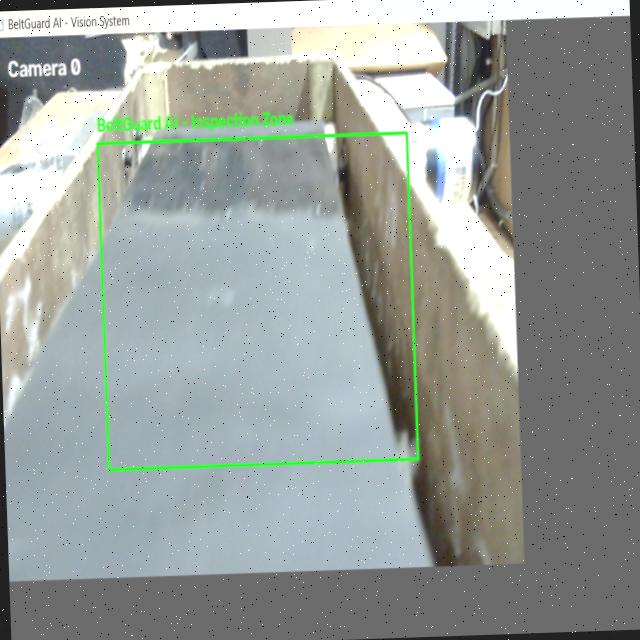Joint_Damage: (127, 120, 342, 218), (182, 276, 245, 330)
